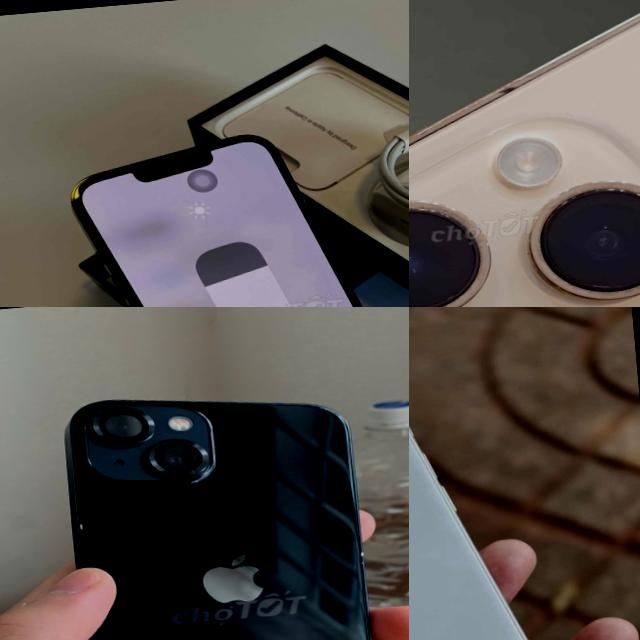gen_12_13: (37, 357, 406, 640), (64, 119, 409, 307)
gen_14: (409, 0, 640, 307)
gen_7_8: (409, 356, 622, 640)
